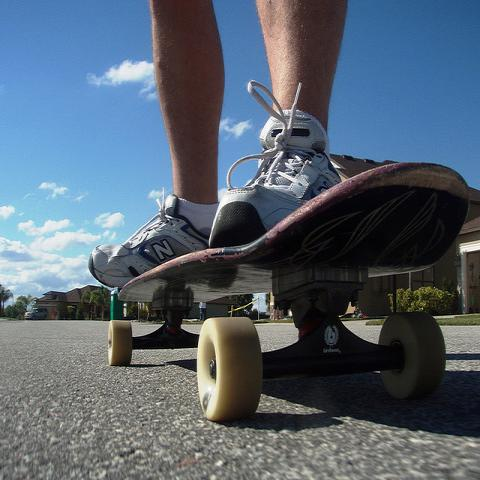car: (25, 308, 48, 320)
